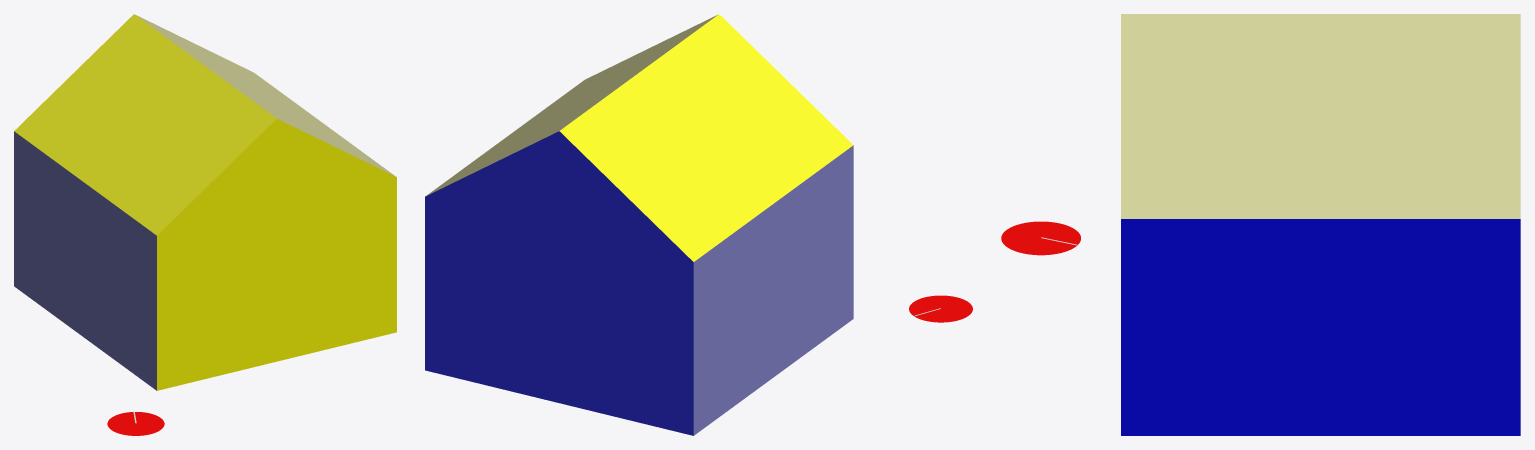
File: result.glb
3 renders of one model, left to right at view 1: azimuth 30°, elevation 25°; view 2: azimuth 150°, elevation 25°; view 3: azimuth 270°, elevation 25°, orthographic. The views are drawn at different scales.
Visible parts, largest first — view 1: f811cf43-18e3-4081-9a11-3416e8f2eacf__undefined, 42653835-bcb7-4cd6-80e3-0e5dc01bc4eb__undefined, baa41903-f528-46ee-a1d2-e33b162afca6__undefined, de66caeb-eaf6-45af-a254-951e71fde5dd__undefined, 4ffb7763-f2b2-480a-8b5f-8c6cae6c6412__Circle; view 2: ba8e0151-c057-42f8-a609-c34ab21e67ee__undefined, 42653835-bcb7-4cd6-80e3-0e5dc01bc4eb__undefined, baa41903-f528-46ee-a1d2-e33b162afca6__undefined, de66caeb-eaf6-45af-a254-951e71fde5dd__undefined, 4ffb7763-f2b2-480a-8b5f-8c6cae6c6412__Circle; view 3: 315bab34-0bf0-49e1-afce-db8e14603b4f__undefined, de66caeb-eaf6-45af-a254-951e71fde5dd__undefined, 4ffb7763-f2b2-480a-8b5f-8c6cae6c6412__Circle.
Boxes of the visible parts, <box> form: f811cf43-18e3-4081-9a11-3416e8f2eacf__undefined: <box>157,119,396,390</box>; 42653835-bcb7-4cd6-80e3-0e5dc01bc4eb__undefined: <box>14,14,276,235</box>; baa41903-f528-46ee-a1d2-e33b162afca6__undefined: <box>14,131,156,390</box>; de66caeb-eaf6-45af-a254-951e71fde5dd__undefined: <box>136,15,395,176</box>; 4ffb7763-f2b2-480a-8b5f-8c6cae6c6412__Circle: <box>107,412,164,435</box>; ba8e0151-c057-42f8-a609-c34ab21e67ee__undefined: <box>425,131,693,435</box>; 42653835-bcb7-4cd6-80e3-0e5dc01bc4eb__undefined: <box>559,14,853,261</box>; baa41903-f528-46ee-a1d2-e33b162afca6__undefined: <box>693,145,853,435</box>; de66caeb-eaf6-45af-a254-951e71fde5dd__undefined: <box>426,15,717,195</box>; 4ffb7763-f2b2-480a-8b5f-8c6cae6c6412__Circle: <box>909,295,972,322</box>; 315bab34-0bf0-49e1-afce-db8e14603b4f__undefined: <box>1121,219,1520,435</box>; de66caeb-eaf6-45af-a254-951e71fde5dd__undefined: <box>1121,14,1520,218</box>; 4ffb7763-f2b2-480a-8b5f-8c6cae6c6412__Circle: <box>1001,221,1080,255</box>.
Size of the model in its own units: 635 by 469 by 650.
